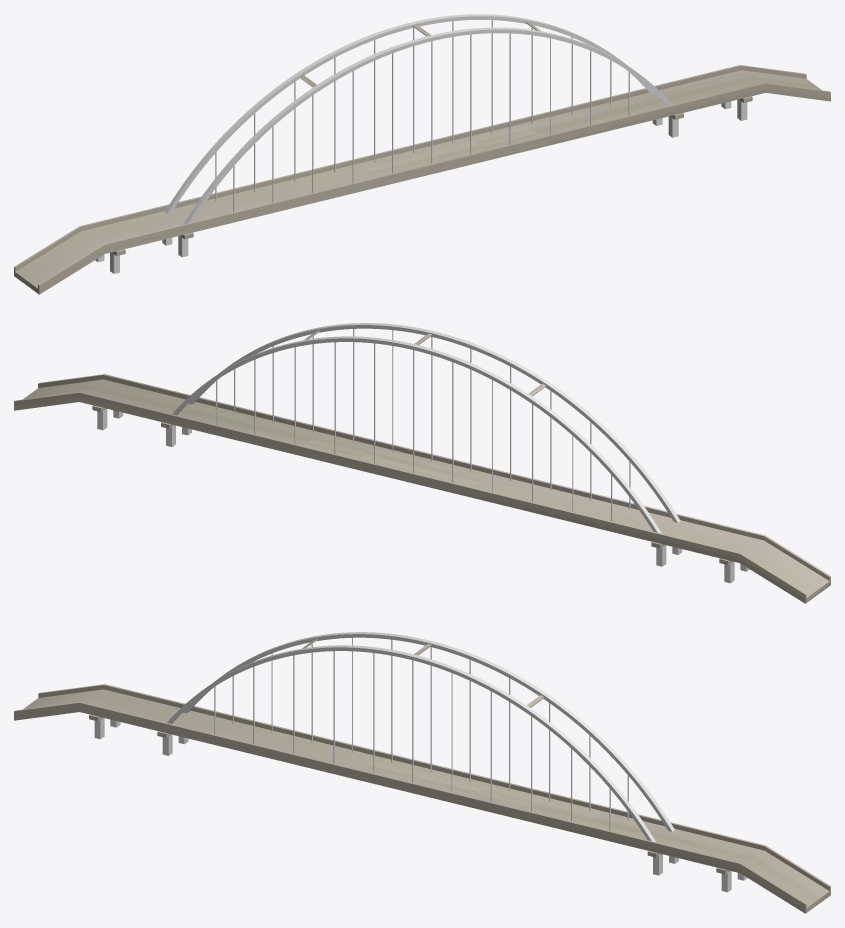
The model's file is bridge1.gltf.
3 renders of one model, top to bottom at view 1: azimuth 30°, elevation 25°; view 2: azimuth 150°, elevation 25°; view 3: azimuth 330°, elevation 25°, orthographic.
Visible parts, largest first — view 1: bridge1; view 2: bridge1; view 3: bridge1.
Boxes of the visible parts, bbox=[...] form: bridge1: bbox=[14, 14, 830, 294]; bridge1: bbox=[14, 323, 830, 603]; bridge1: bbox=[14, 632, 830, 913].
Size of the model in its own units: 70000 by 13482 by 4234.
Materials: 2 (1 with a texture image).
